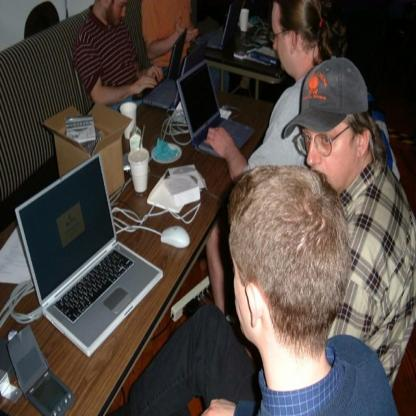board: (17, 158, 158, 354), (177, 58, 256, 150), (142, 42, 207, 106), (196, 3, 242, 48), (163, 26, 186, 78)
